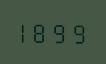eight: (35, 19, 51, 43)
nine: (52, 19, 68, 44), (69, 20, 85, 44)
one: (18, 19, 34, 43)
